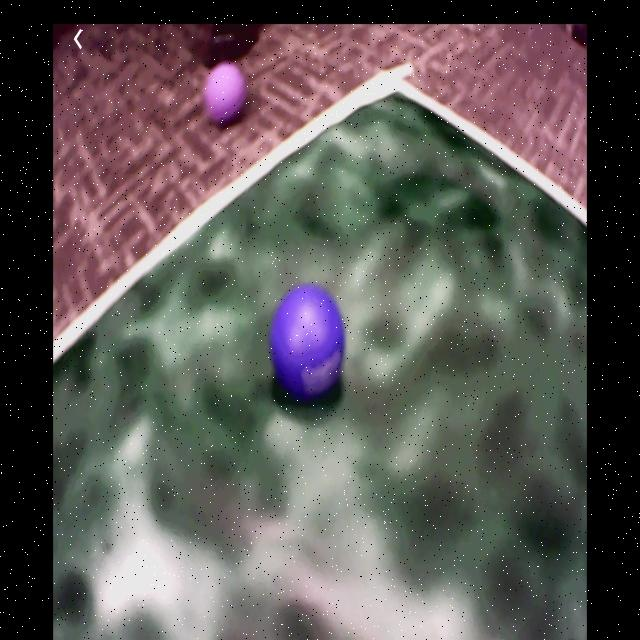ball: (271, 284, 345, 394), (208, 63, 246, 125)
